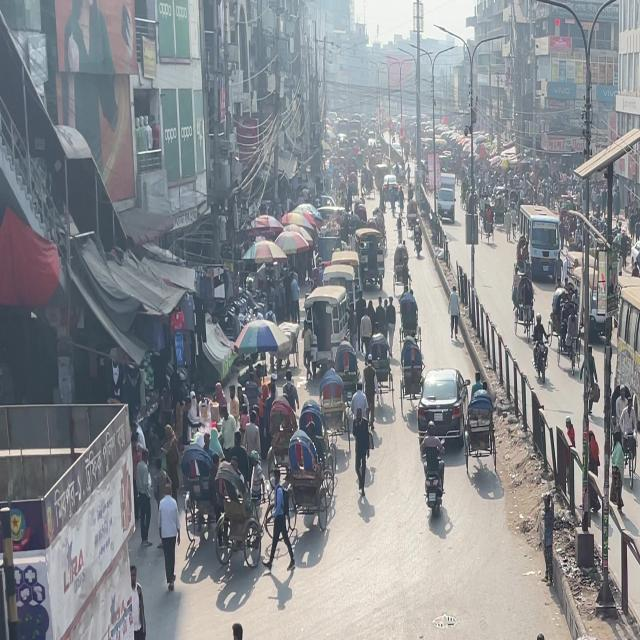bus: (520, 212, 564, 291)
car: (409, 368, 478, 446), (436, 179, 462, 222), (635, 246, 640, 284)
motorbike: (412, 402, 462, 538)
